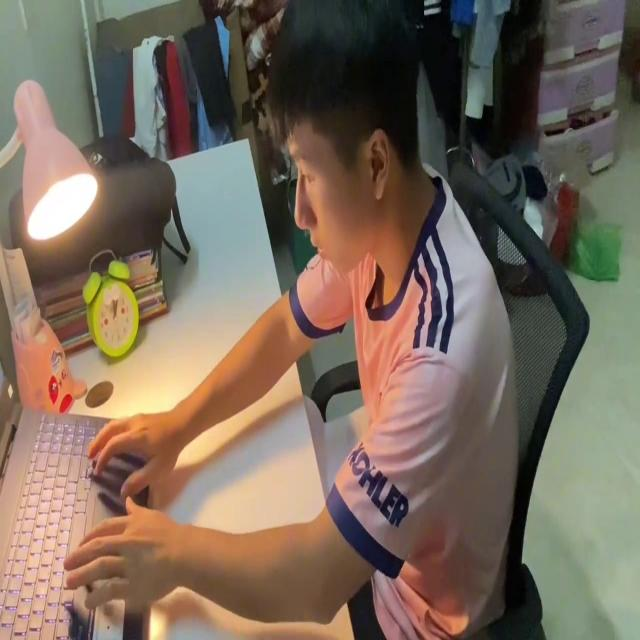book: (304, 390, 368, 488)
laptop: (0, 350, 153, 640)
student: (65, 10, 517, 640)
